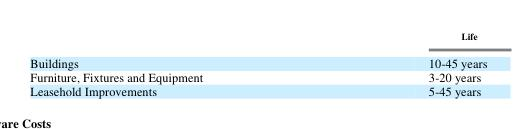table: (29, 29, 486, 98)
table column: (29, 29, 315, 98), (315, 29, 486, 98)
table column header: (29, 29, 486, 48)
table row: (29, 48, 486, 69), (29, 29, 486, 48), (29, 83, 486, 98), (29, 69, 486, 83)
